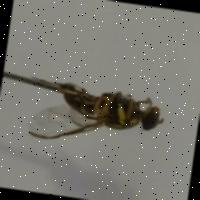Oriental-fruit-fly: (9, 63, 172, 170)
